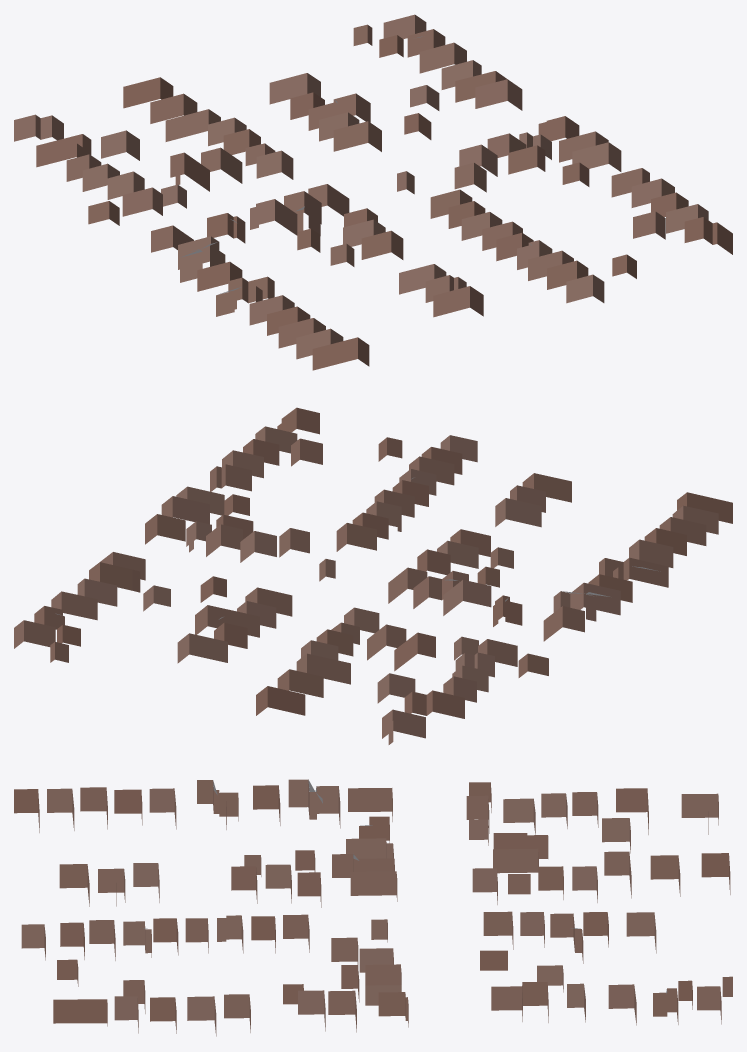
File: c_1636_17822_buildings_residential.glb
3 renders of one model, top to bottom at view 1: azimuth 30°, elevation 25°; view 2: azimuth 150°, elevation 25°; view 3: azimuth 270°, elevation 25°, orthographic. The views are drawn at different scales.
Visible parts, largest first — view 1: geometry_0; view 2: geometry_0; view 3: geometry_0.
Boxes of the visible parts, bbox=[...] form: geometry_0: bbox=[14, 14, 732, 370]; geometry_0: bbox=[14, 407, 732, 744]; geometry_0: bbox=[14, 779, 732, 1036].
Size of the model in its own units: 206 by 12.94 by 259.
